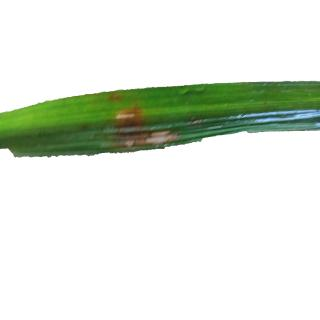Hawar-Daun: (119, 102, 146, 147), (145, 120, 180, 149), (108, 87, 124, 108)
